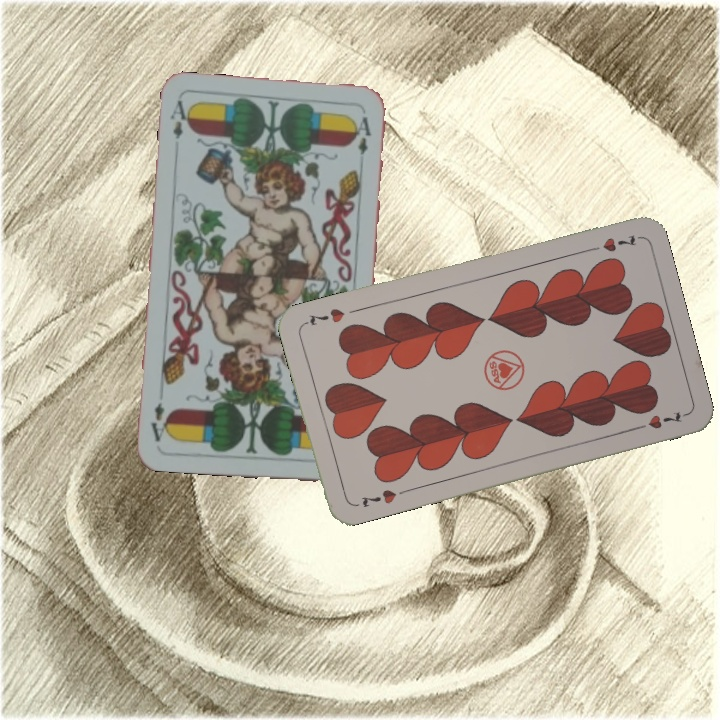EA: (166, 96, 193, 141)
H7: (582, 231, 641, 255), (357, 485, 409, 510)
